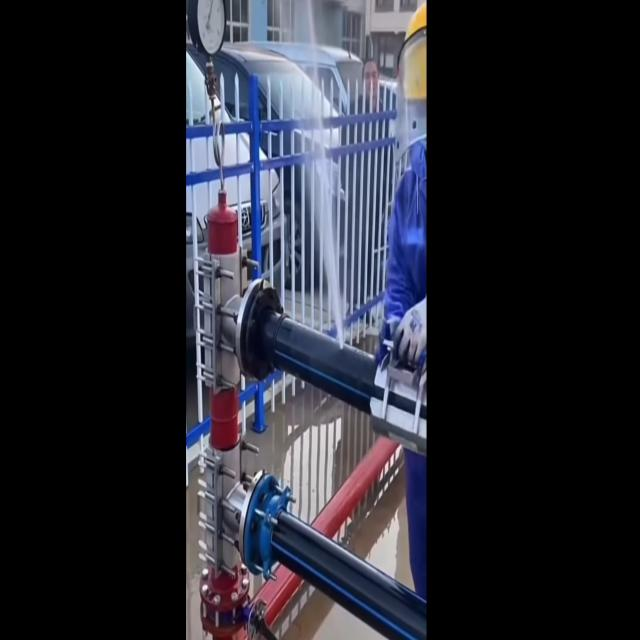leak: (311, 142, 344, 347)
